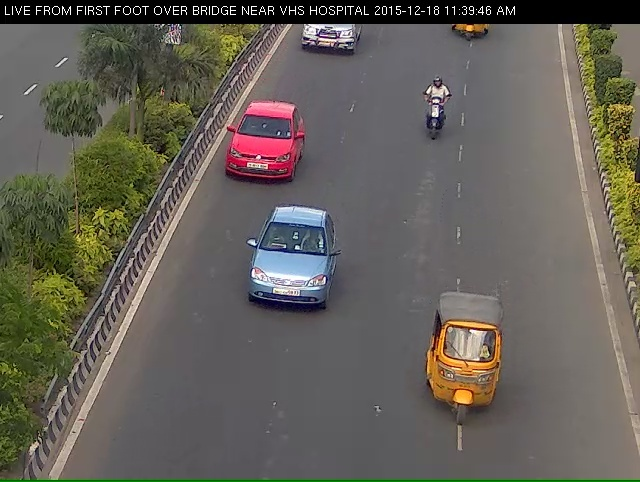Auto: (416, 291, 517, 452)
Car: (241, 227, 337, 341), (221, 111, 300, 209)
Person: (414, 83, 454, 160)
